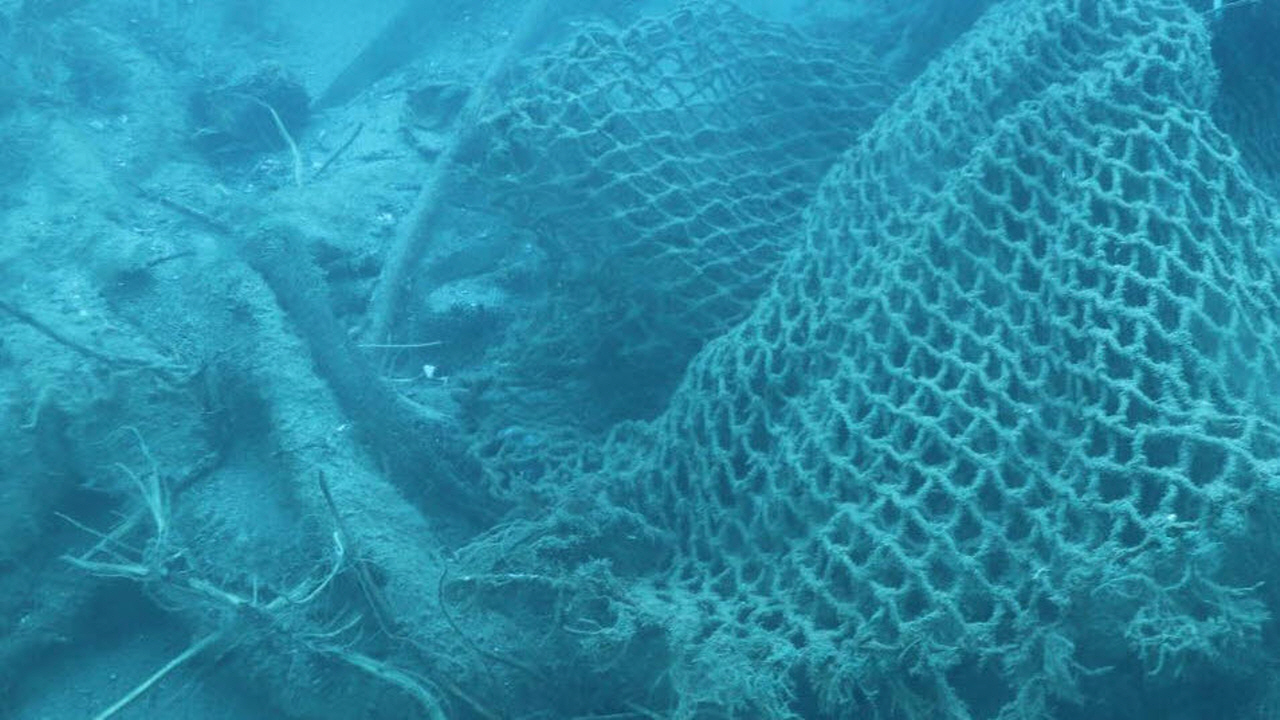fish net: (514, 2, 1280, 651)
